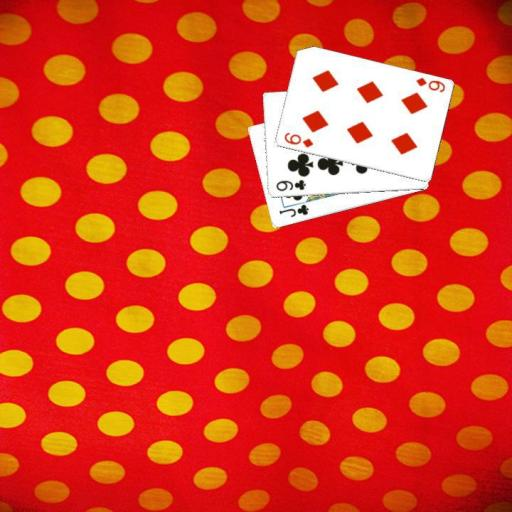6D: (281, 130, 314, 150), (413, 75, 447, 94)
9C: (273, 177, 308, 193)
JC: (276, 201, 310, 219)
